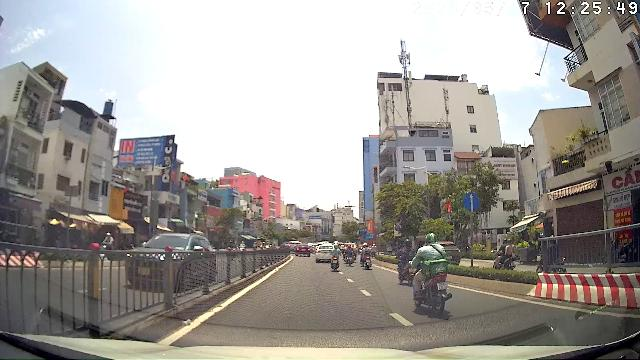301a-cac-xe-chi-duoc-di-thang: (462, 191, 480, 211)
